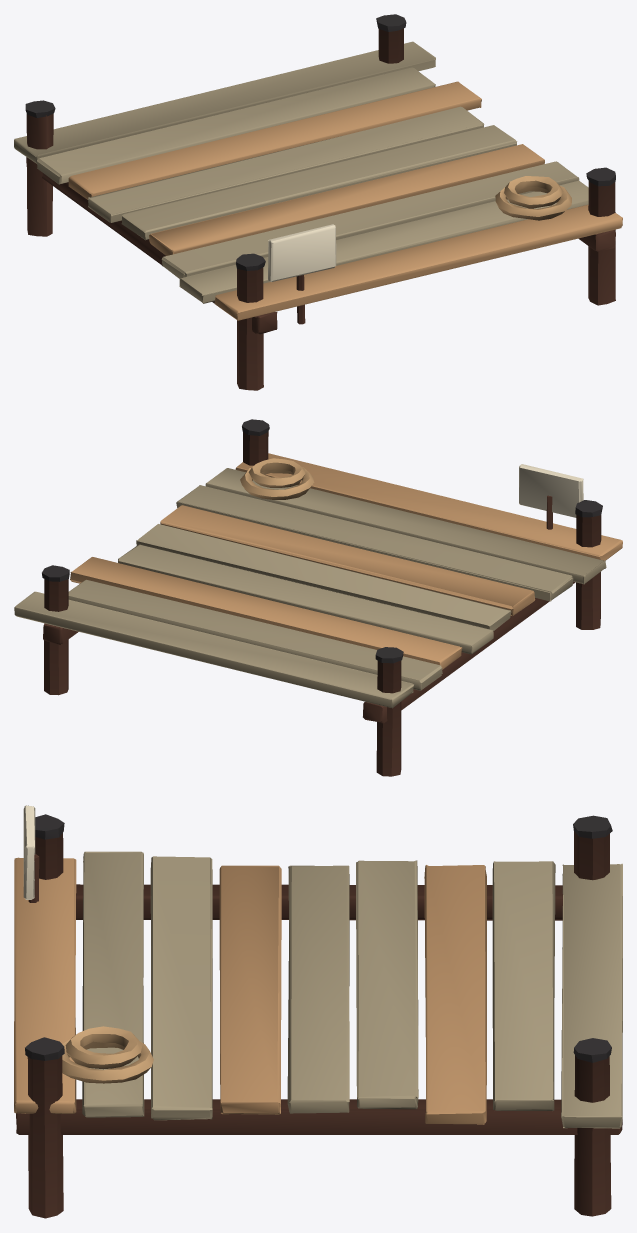
Rendered from pad.glb.
3 views of the same model, one above another, from view 1: azimuth 30°, elevation 25°; view 2: azimuth 150°, elevation 25°; view 3: azimuth 270°, elevation 25° (orthographic). The views are drawn at different scales.
Parts seen in each view (by area): view 1: Pad; view 2: Pad; view 3: Pad.
Boxes of the visible parts, box(x1,y1,x2,y2) form: Pad: box(14, 14, 622, 390); Pad: box(14, 419, 622, 776); Pad: box(14, 805, 622, 1218).
Bounding box in the file's own units: 3.22 × 1.08 × 3.12.
